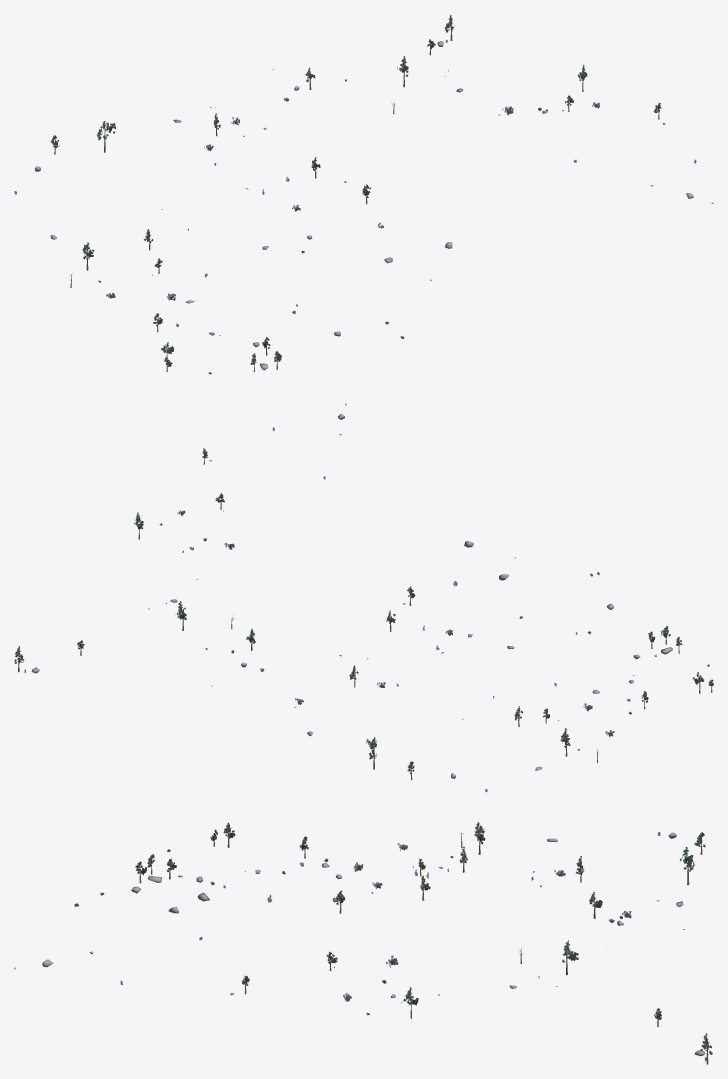
Rendered from frost_land_scatter_c12_10.glb.
3 views of the same model, one above another, from view 1: azimuth 30°, elevation 25°; view 2: azimuth 150°, elevation 25°; view 3: azimuth 270°, elevation 25° (orthographic). The views are drawn at different scales.
Visible parts, largest first — view 1: frost_land_scatter_c12_10; view 2: frost_land_scatter_c12_10; view 3: frost_land_scatter_c12_10.
Boxes of the visible parts, x1=… form: frost_land_scatter_c12_10: x1=14, y1=15, x2=713, y2=374; frost_land_scatter_c12_10: x1=14, y1=403, x2=713, y2=792; frost_land_scatter_c12_10: x1=14, y1=822, x2=712, y2=1064.
Size of the model in its own units: 246 by 62.74 by 252.
